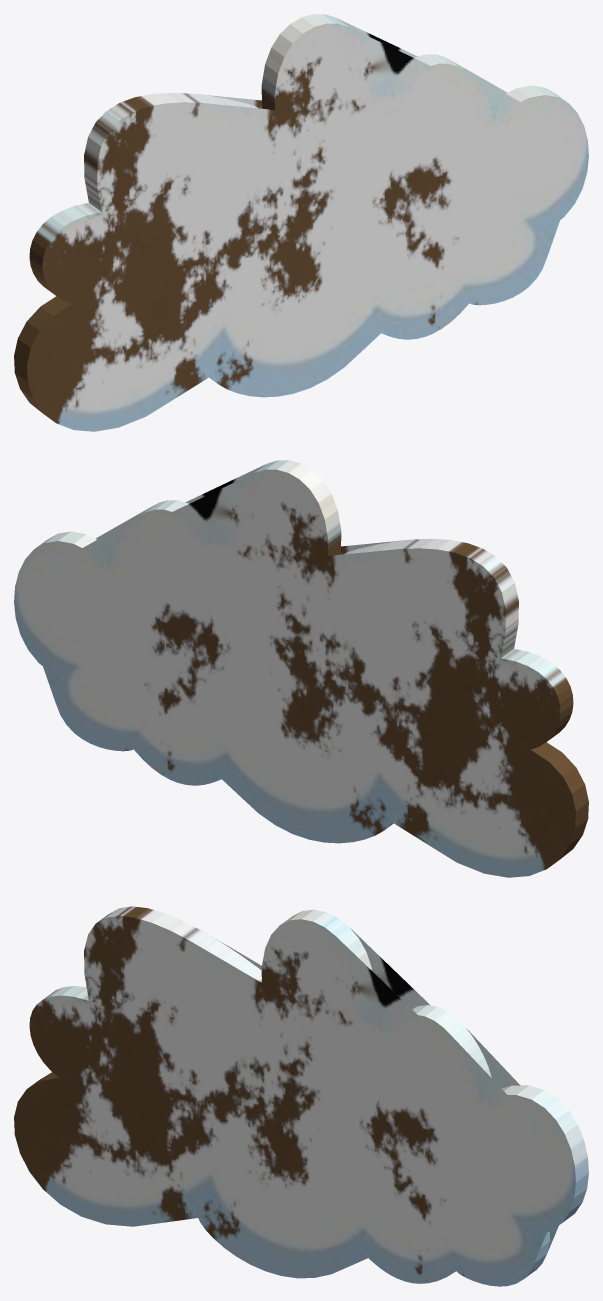
The model's file is nuve 4.fbx.
3 renders of one model, top to bottom at view 1: azimuth 30°, elevation 25°; view 2: azimuth 150°, elevation 25°; view 3: azimuth 330°, elevation 25°, orthographic.
Visible parts, largest first — view 1: nuve 4; view 2: nuve 4; view 3: nuve 4.
Part boxes in pixels (x1=…): nuve 4: x1=14, y1=14, x2=588, y2=431; nuve 4: x1=14, y1=460, x2=588, y2=877; nuve 4: x1=14, y1=906, x2=588, y2=1286.
Size of the model in its own units: 442 by 272 by 17.73.
Materials: 1 (1 with a texture image).
